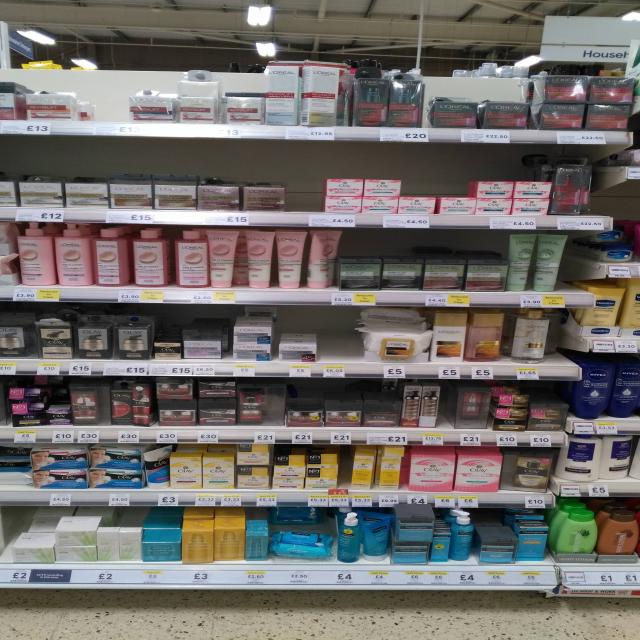void: (77, 71, 125, 136), (322, 306, 354, 375), (290, 159, 322, 223)
